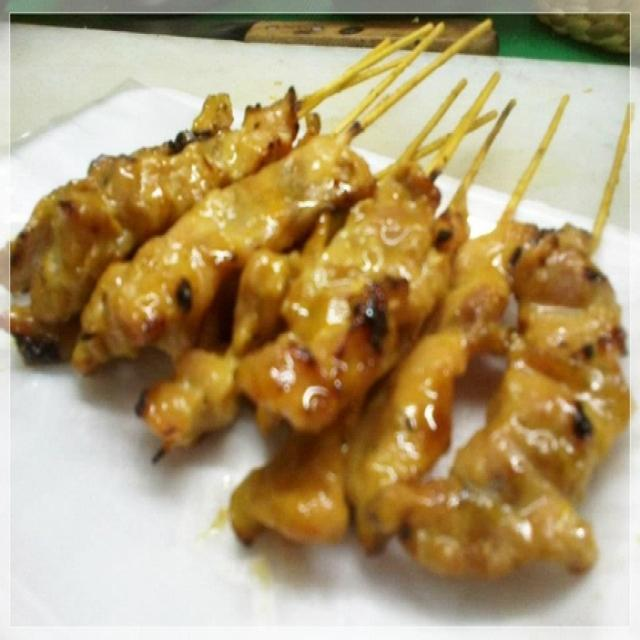牛肉菜式: (26, 42, 634, 594)
